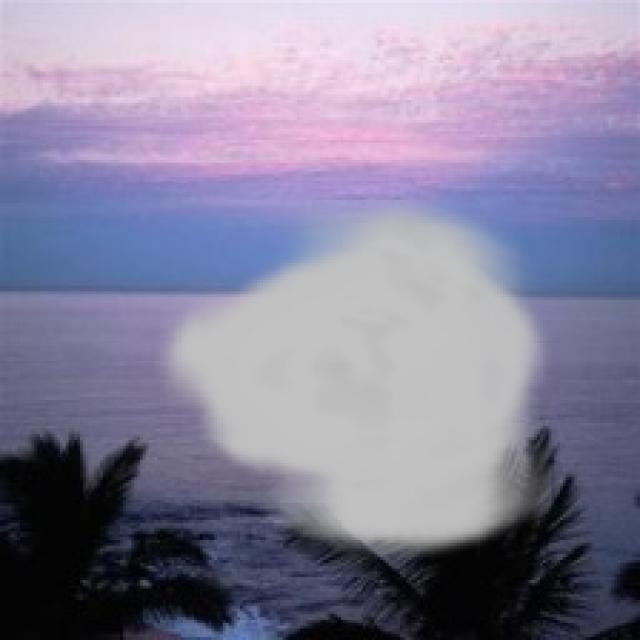smoke: (154, 191, 552, 560)
